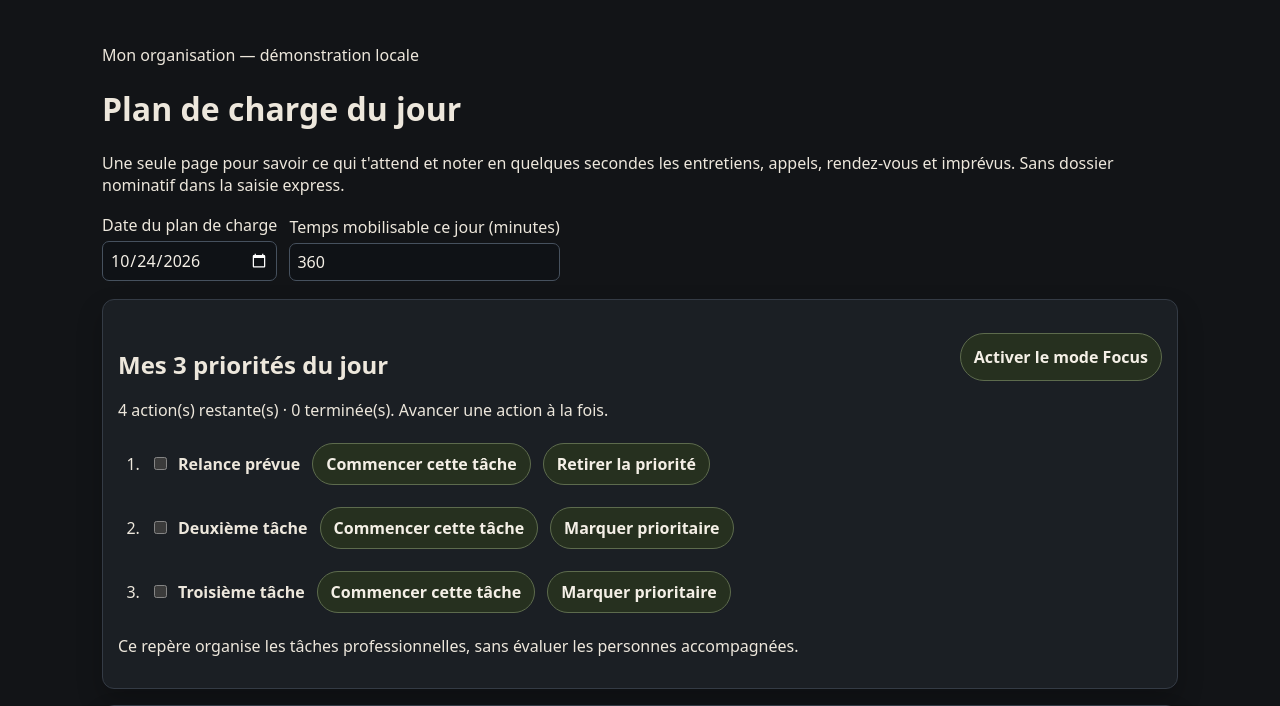
bureau de charge et saisie express (démonstration) › affiche les trois priorités, puis masque les détails sans cacher la saisie rapide
The width and height of the screenshot is (1280, 706).
Expected: the heading "Mes 3 priorités du jour" is shown, [118, 348, 388, 381]
Expected: the number of checkboxes named "Terminer la priorité" is 3, [154, 457, 167, 470]; [154, 521, 167, 534]; [154, 585, 167, 598]
Click the button "Activer le mode Focus".
click(1061, 357)  # box [960, 333, 1162, 381]
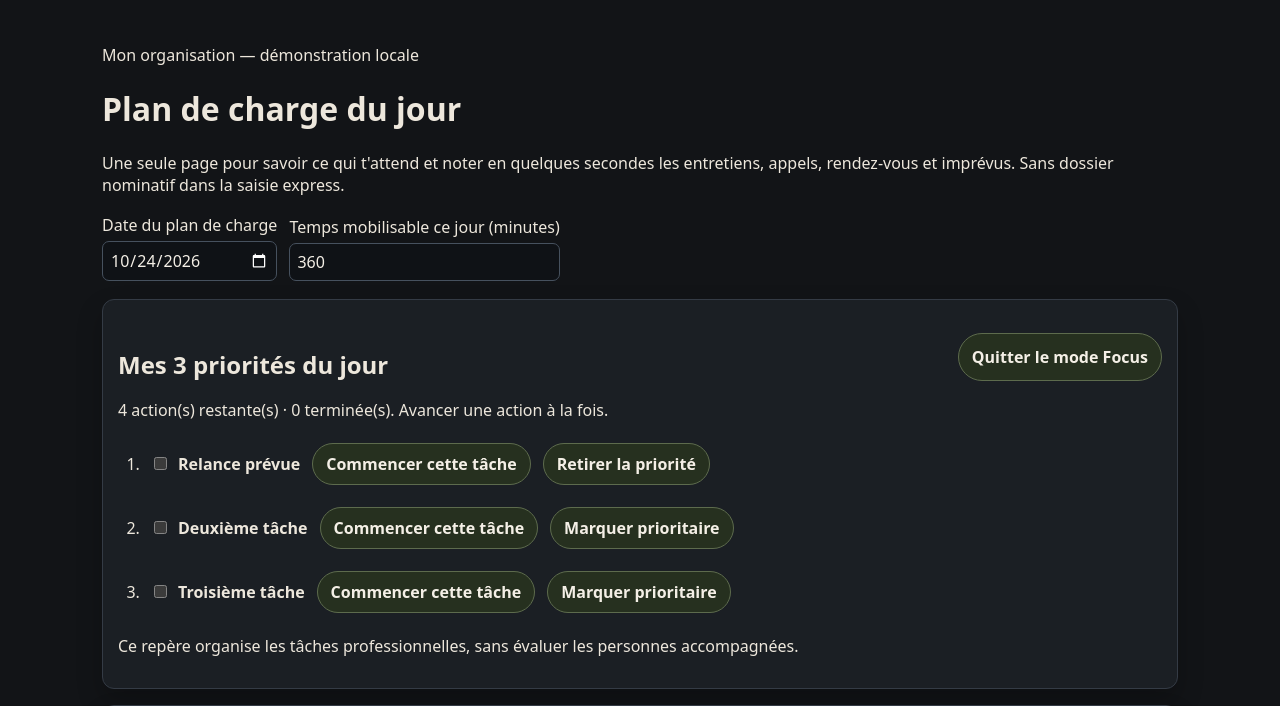
Expected: the heading "Charge calculée" is not shown
Click the button "Quitter le mode Focus".
click(1060, 357)  # box [958, 333, 1162, 381]
(page scrolled)
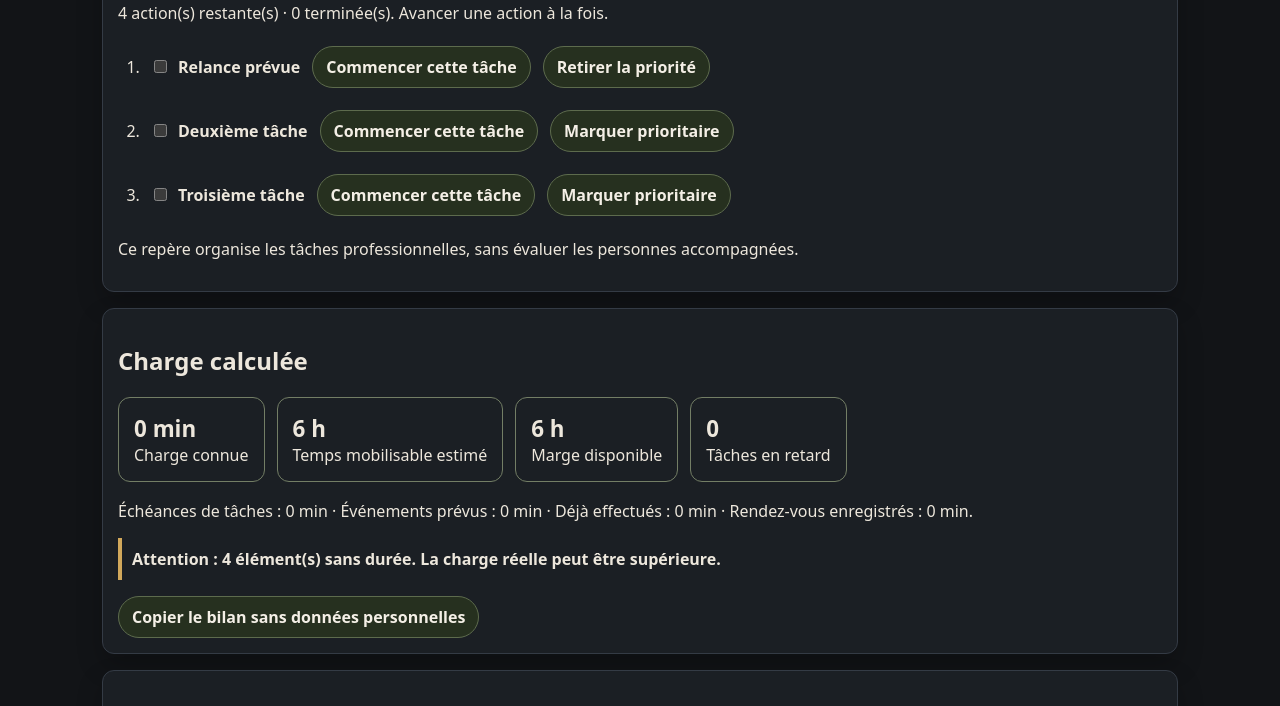
Result: the heading "Charge calculée" is shown at [118, 344, 308, 377]
